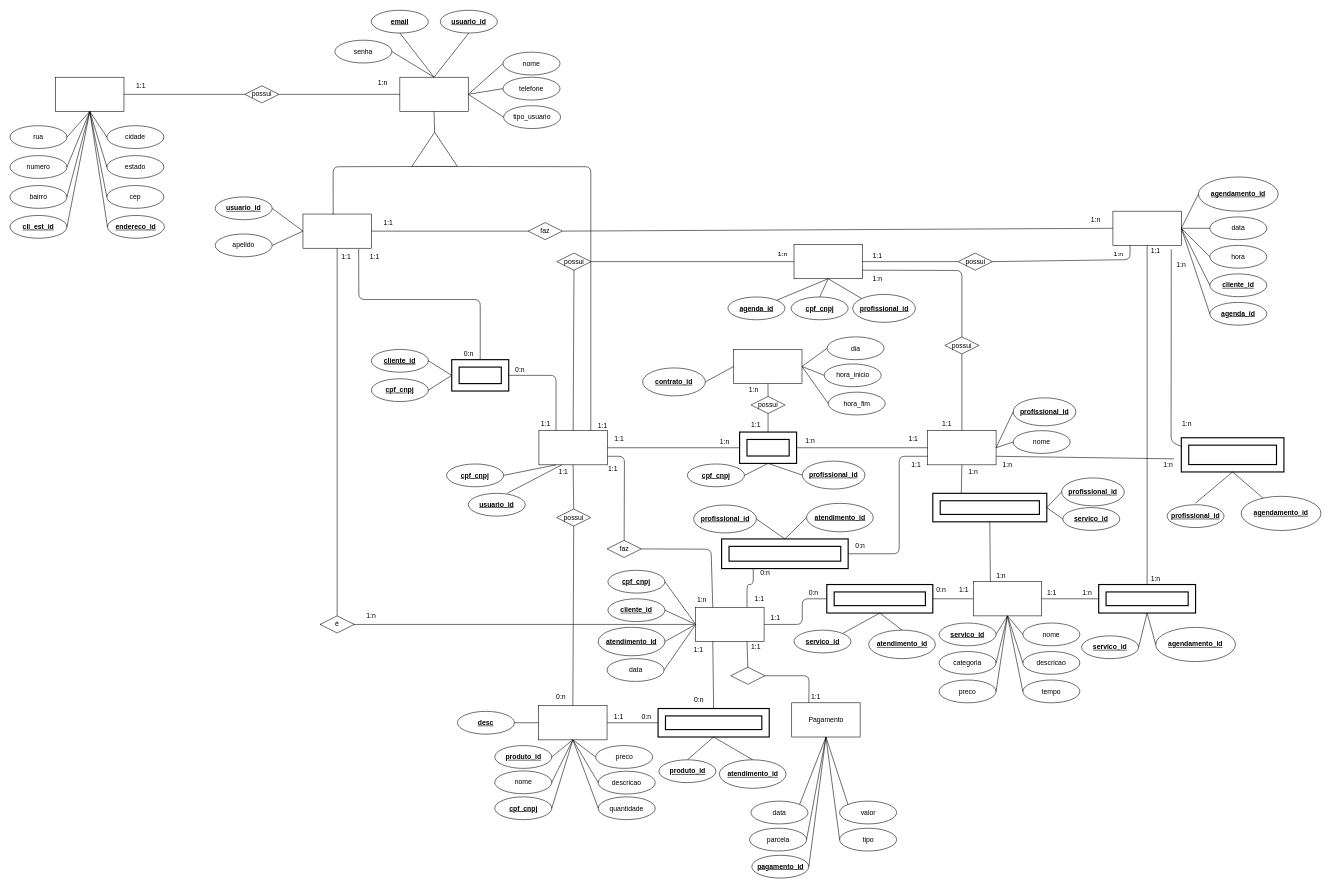
Some shapes in this 1331 by 888 pixel diagram are drawn without their labels. Each missing label, with the centre of its shape:
Agenda: point 827,261
Agendamento: point 1146,228
Atendimento: point 729,624
Atendimento_produtos: point 713,722
Atendimento_profissionais: point 784,553
Atendimento_servicos: point 879,598
Cadastro: point 480,375
Cliente: point 336,230
compoe: point 747,675
Contrato: point 768,447
Disponibilidade: point 767,366
Endereco: point 89,94
Estabelecimento: point 572,447
Produto: point 572,722
Profissional: point 961,447
profissional agendamento: point 1232,454
Servicos_profissionais: point 989,507
Serviço: point 1007,598
Solicia_servico: point 1147,598
Usuario: point 433,94
